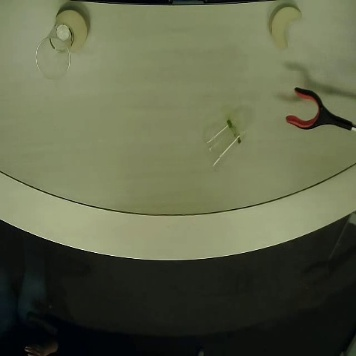empty_cup: (203, 115, 247, 172), (33, 22, 74, 79)
puck: (55, 9, 88, 53), (269, 5, 302, 49)
